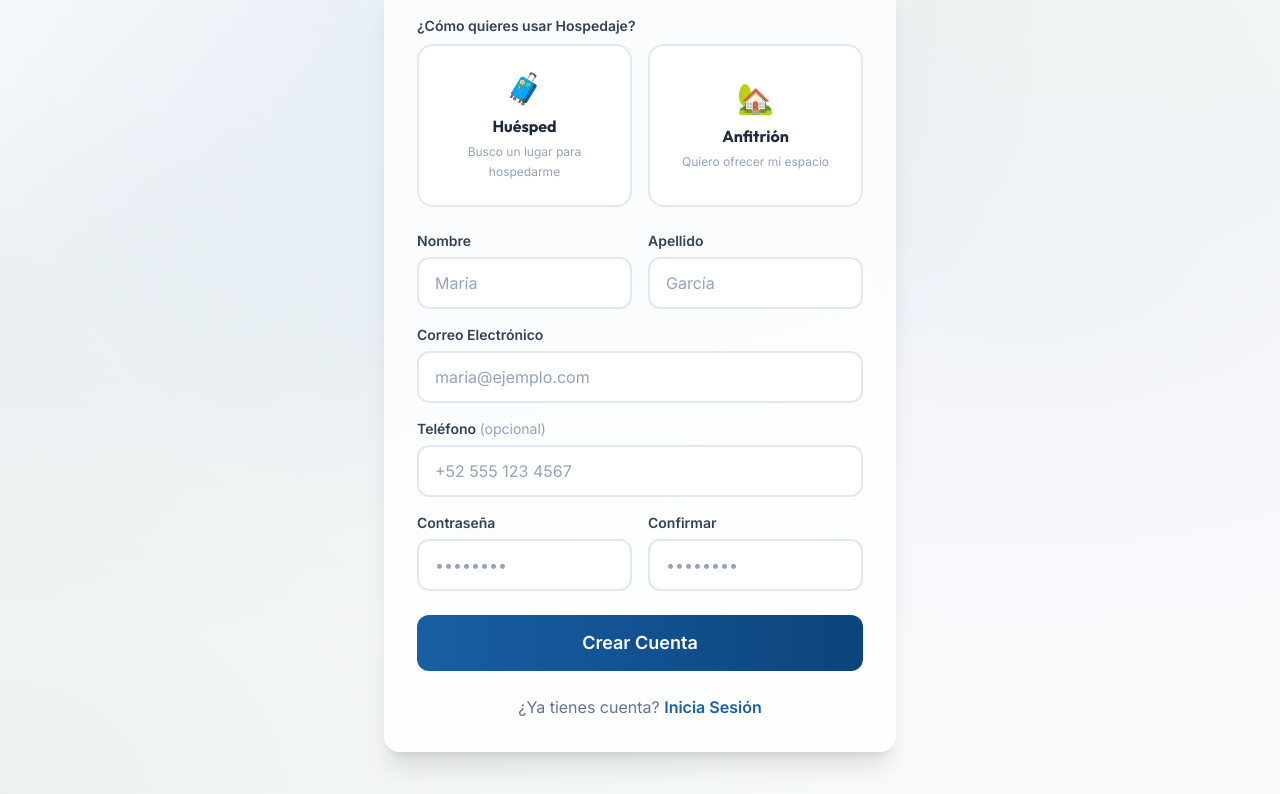
it: Página de Registro › muestra errores de validación al enviar vacío
(page scrolled)
Click the button "Crear Cuenta" at point(640, 643), box [417, 615, 863, 671]
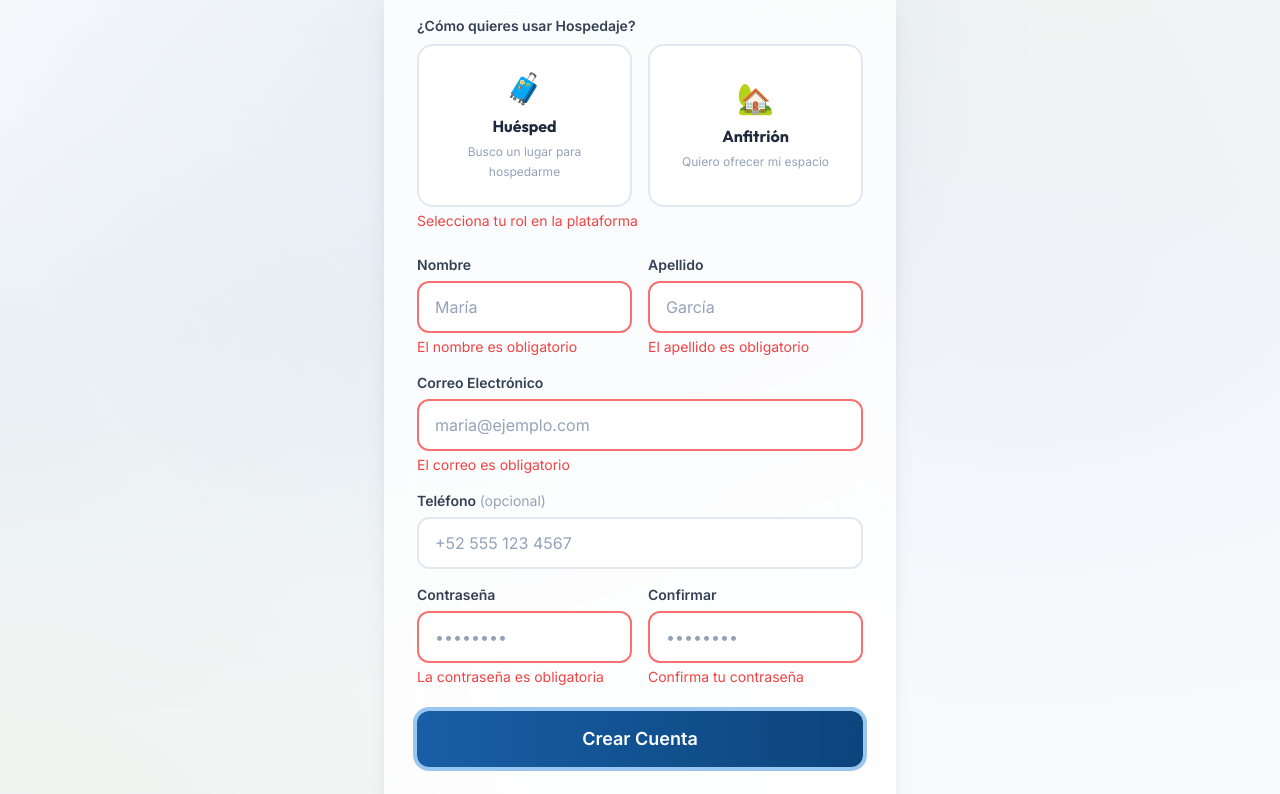
expect the text "El nombre es obligatorio" is shown: met, box [417, 338, 577, 355]
